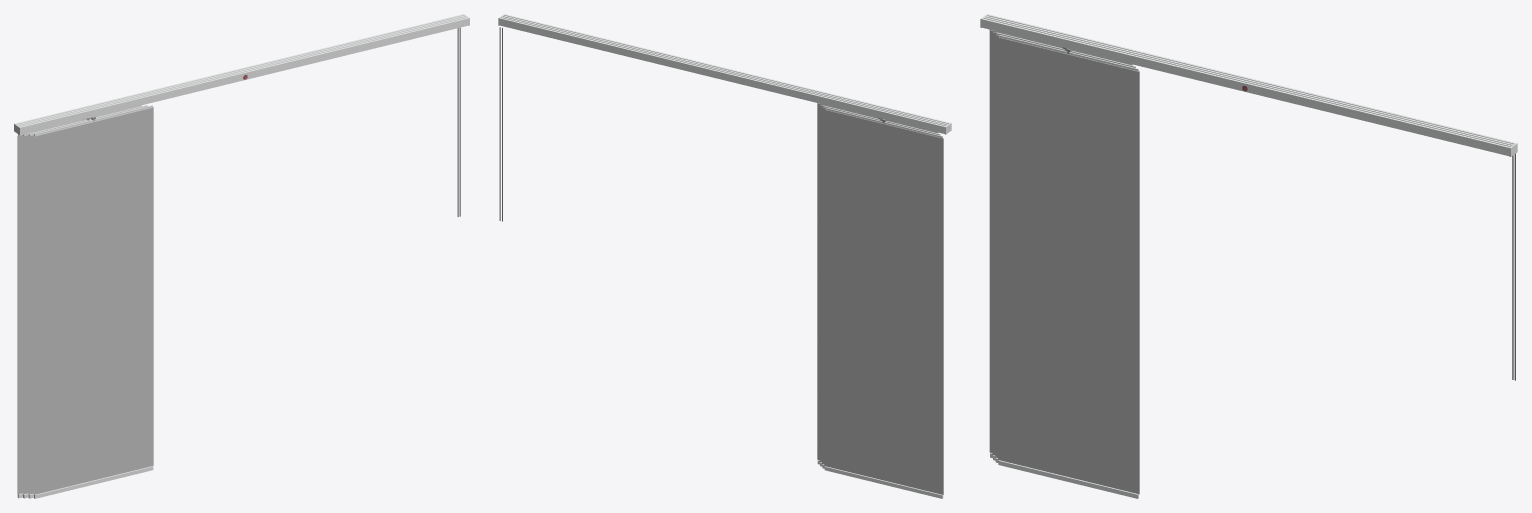
File: before-panel-white-collected.glb
3 views of the same model, side by side, from view 1: azimuth 30°, elevation 25°; view 2: azimuth 150°, elevation 25°; view 3: azimuth 330°, elevation 25° (orthographic). The views are drawn at different scales.
Parts seen in each view (by area): view 1: PANEL_TELO_4, PANEL_RAIL_PROFILE_WAY_4, PANEL_TELO_2, PANEL_TELO_1, PANEL_TELO_3, PANEL_RAIL_PROFILE_WAY_1, PANEL_RAIL_PROFILE_WAY_2, PANEL_RAIL_PROFILE_WAY_3, PANEL_BOTTOM_WEIGHT_4; view 2: PANEL_TELO_1, PANEL_RAIL_PROFILE_WAY_1, PANEL_TELO_3, PANEL_TELO_4, PANEL_TELO_2, PANEL_RAIL_PROFILE_WAY_4, PANEL_RAIL_PROFILE_WAY_3, PANEL_RAIL_PROFILE_WAY_2, PANEL_BOTTOM_WEIGHT_1; view 3: PANEL_TELO_4, PANEL_RAIL_PROFILE_WAY_4, PANEL_TELO_1, PANEL_TELO_2, PANEL_RAIL_PROFILE_WAY_1, PANEL_RAIL_PROFILE_WAY_2, PANEL_RAIL_PROFILE_WAY_3, PANEL_TELO_3, PANEL_BOTTOM_WEIGHT_4.
Part boxes in pixels (<box>): PANEL_TELO_4: <box>33,107,153,494</box>; PANEL_RAIL_PROFILE_WAY_4: <box>20,17,468,134</box>; PANEL_TELO_2: <box>22,135,28,494</box>; PANEL_TELO_1: <box>17,135,23,494</box>; PANEL_TELO_3: <box>28,135,34,494</box>; PANEL_RAIL_PROFILE_WAY_1: <box>15,14,463,124</box>; PANEL_RAIL_PROFILE_WAY_2: <box>17,15,465,125</box>; PANEL_RAIL_PROFILE_WAY_3: <box>19,16,466,126</box>; PANEL_BOTTOM_WEIGHT_4: <box>34,466,153,498</box>; PANEL_TELO_1: <box>824,109,943,494</box>; PANEL_RAIL_PROFILE_WAY_1: <box>499,17,945,133</box>; PANEL_TELO_3: <box>819,105,822,462</box>; PANEL_TELO_4: <box>817,103,820,460</box>; PANEL_TELO_2: <box>822,107,824,464</box>; PANEL_RAIL_PROFILE_WAY_4: <box>504,14,949,123</box>; PANEL_RAIL_PROFILE_WAY_3: <box>502,15,948,124</box>; PANEL_RAIL_PROFILE_WAY_2: <box>501,16,946,125</box>; PANEL_BOTTOM_WEIGHT_1: <box>824,466,943,498</box>; PANEL_TELO_4: <box>998,37,1139,494</box>; PANEL_RAIL_PROFILE_WAY_4: <box>982,18,1510,155</box>; PANEL_TELO_1: <box>989,29,993,452</box>; PANEL_TELO_2: <box>992,32,995,455</box>; PANEL_RAIL_PROFILE_WAY_1: <box>987,14,1515,144</box>; PANEL_RAIL_PROFILE_WAY_2: <box>985,16,1513,145</box>; PANEL_RAIL_PROFILE_WAY_3: <box>983,17,1511,146</box>; PANEL_TELO_3: <box>995,34,998,457</box>; PANEL_BOTTOM_WEIGHT_4: <box>998,460,1138,498</box>.
Size of the model in its own units: 3.02 by 2.4 by 0.088.
Materials: 5 (2 with a texture image).
